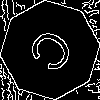C: (25, 25, 84, 83)
